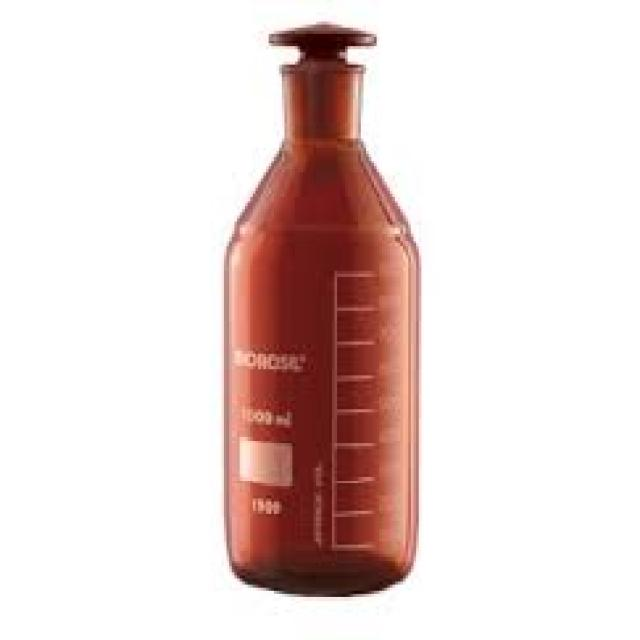glass: (221, 18, 419, 594)
